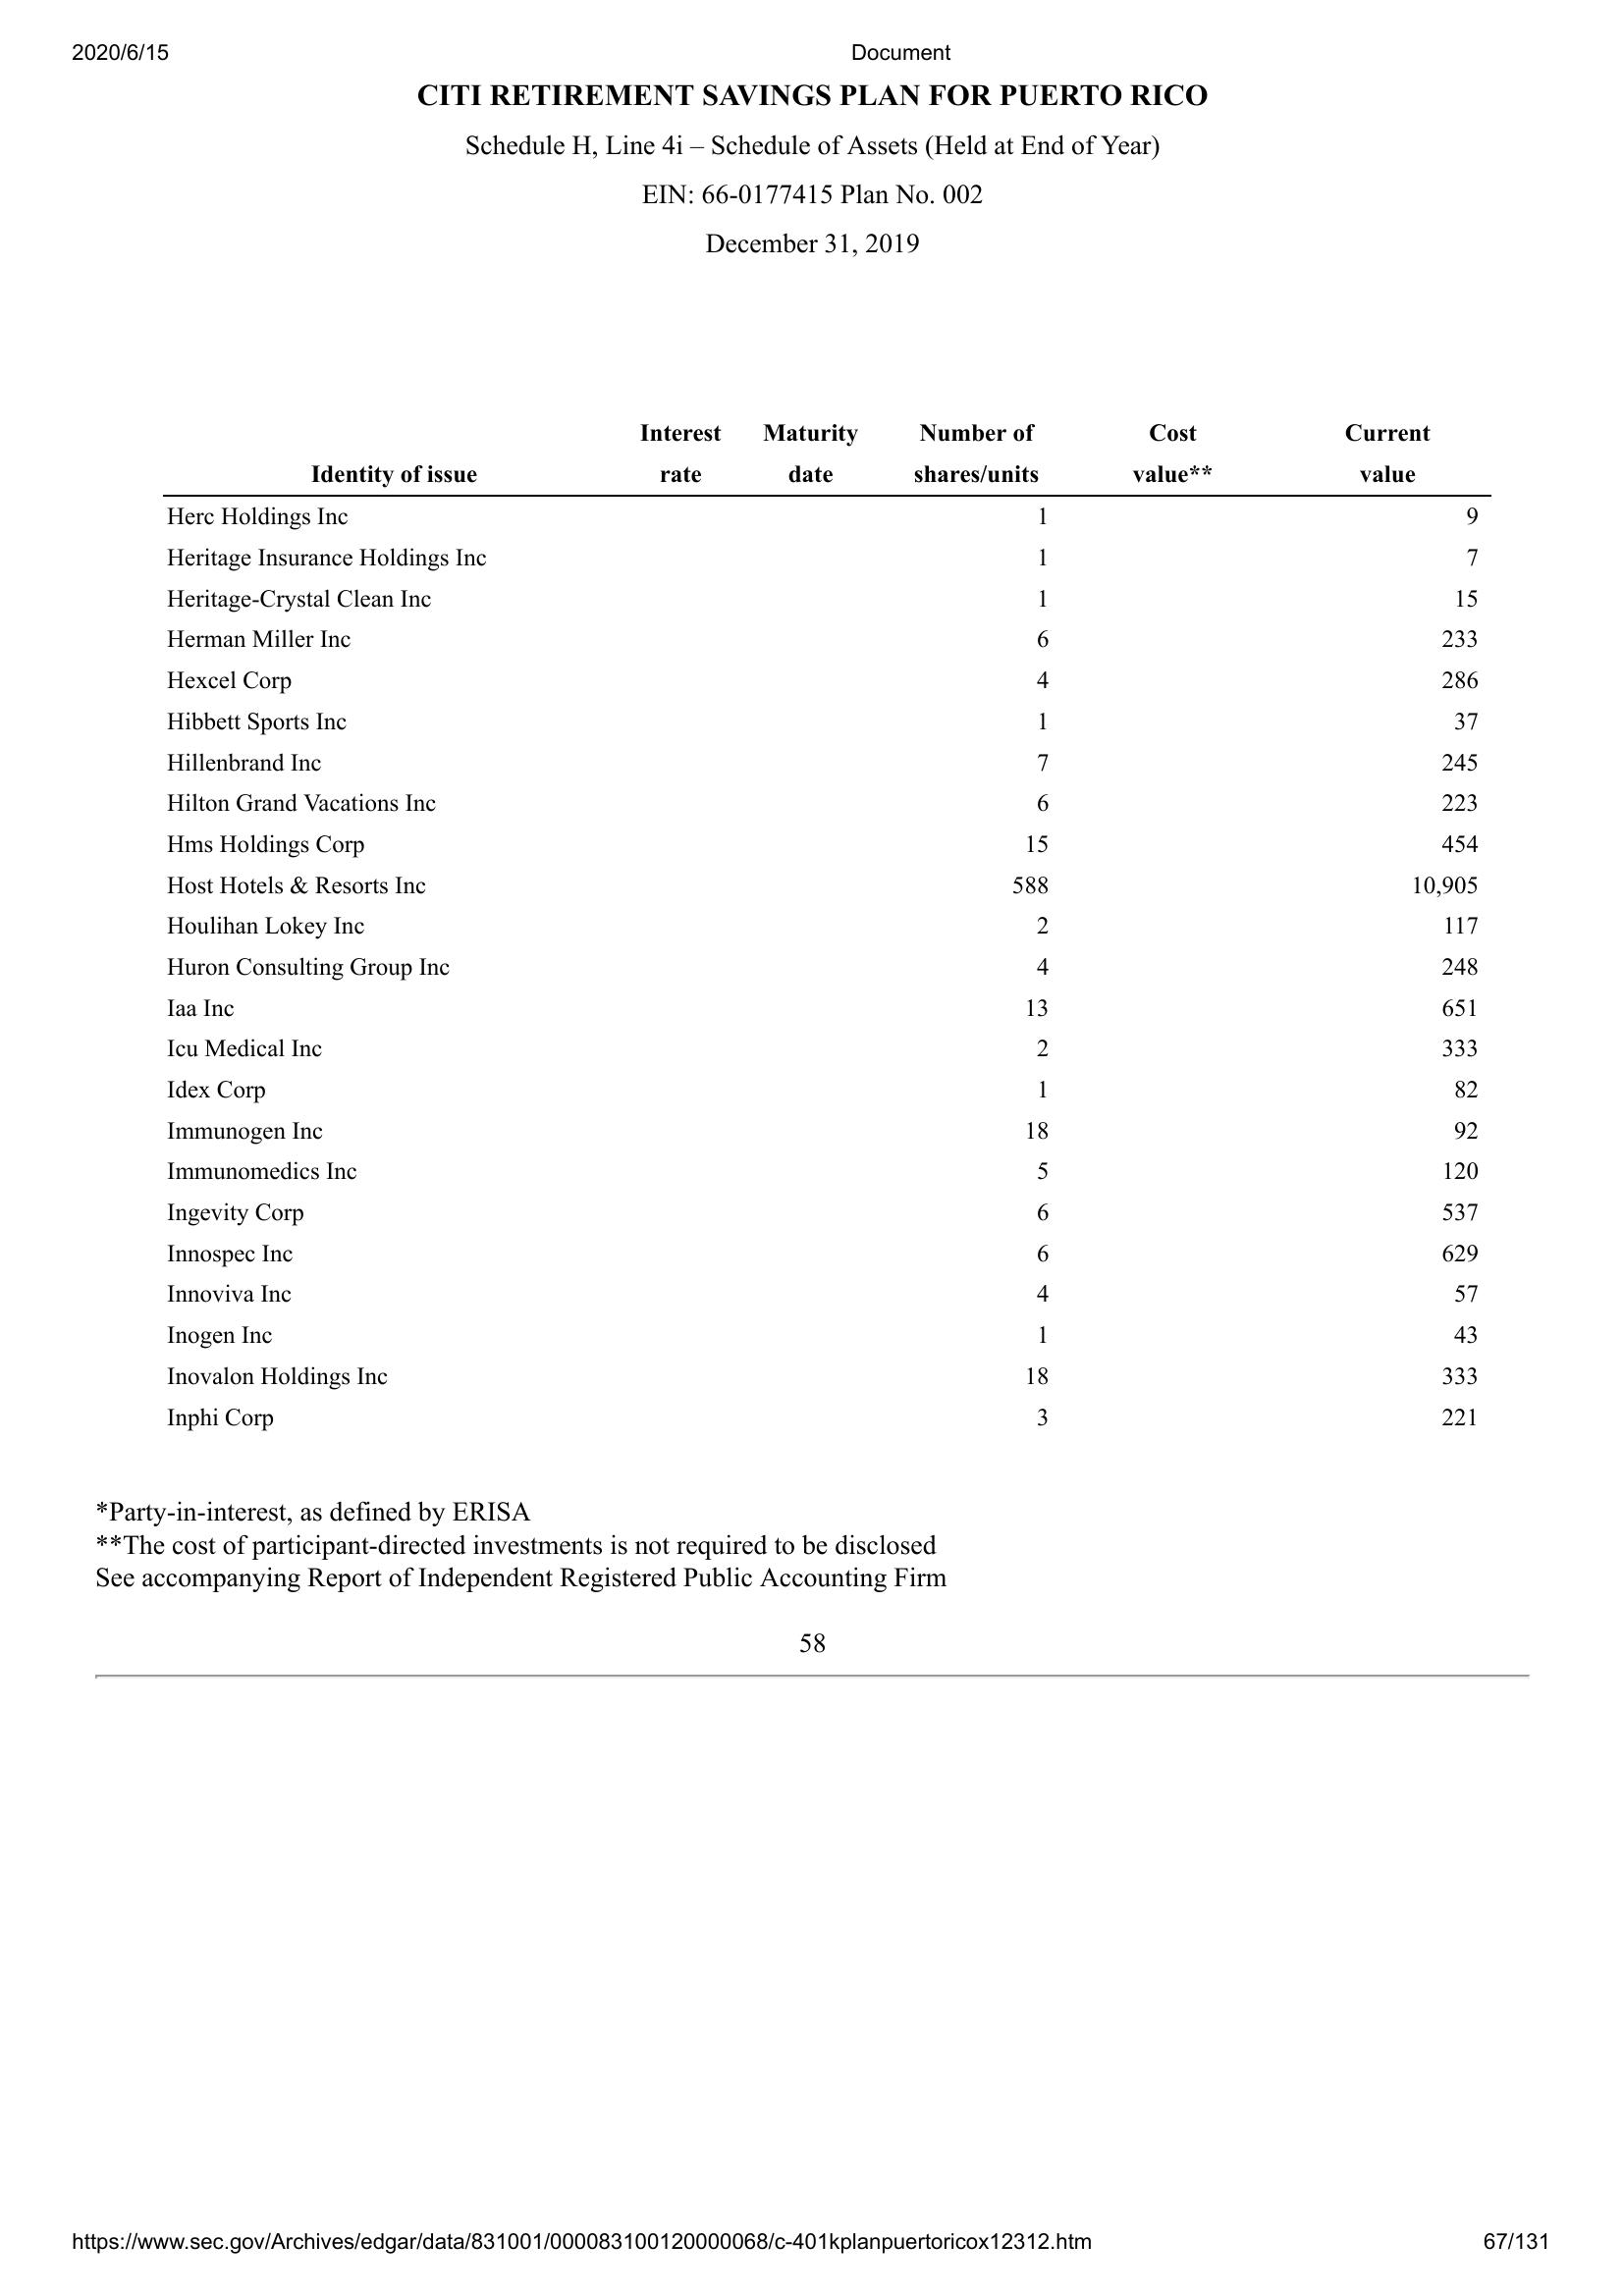table: (155, 420, 1500, 1441)
